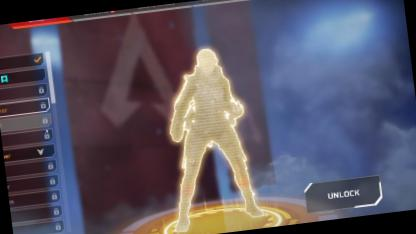Target: (164, 40, 247, 194)
